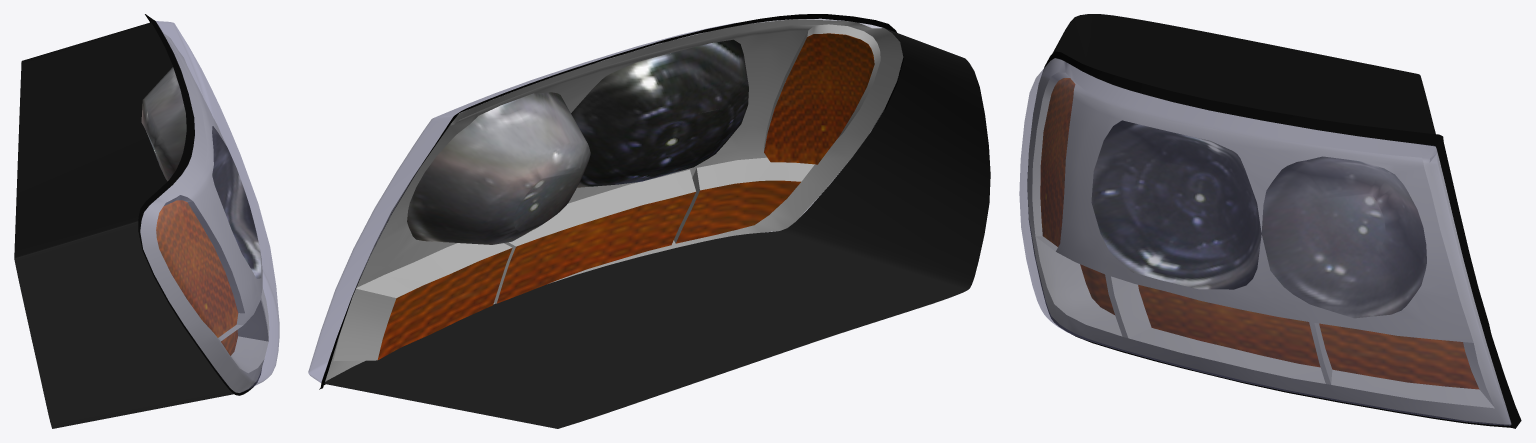
The picture shows the model from 3 angles, left to right: view 1: azimuth 30°, elevation 25°; view 2: azimuth 150°, elevation 25°; view 3: azimuth 270°, elevation 25°; orthographic projection. The views are drawn at different scales.
Parts seen in each view (by area): view 1: J731_061B_R_J731_061B_R_6_D, J731_061B_R_J731_061B_R_7_DTaSI, J731_061B_R_J731_061B_R_4_DaS, J731_061B_R_J731_061B_R_5_N, J731_061B_R_1_N_J731_061B_R, J731_061B_R_J731_061B_R_2_N, J731_061B_R_J731_061B_R_8_D; view 2: J731_061B_R_J731_061B_R_6_D, J731_061B_R_J731_061B_R_4_DaS, J731_061B_R_1_N_J731_061B_R, J731_061B_R_J731_061B_R_3_N, J731_061B_R_J731_061B_R_2_N, J731_061B_R_J731_061B_R_5_N, J731_061B_R_J731_061B_R_7_DTaSI, J731_061B_R_J731_061B_R_8_D; view 3: J731_061B_R_J731_061B_R_7_DTaSI, J731_061B_R_J731_061B_R_4_DaS, J731_061B_R_J731_061B_R_6_D, J731_061B_R_J731_061B_R_2_N, J731_061B_R_1_N_J731_061B_R, J731_061B_R_J731_061B_R_3_N, J731_061B_R_J731_061B_R_8_D, J731_061B_R_J731_061B_R_5_N.
Boxes of the visible parts, <box> form: J731_061B_R_J731_061B_R_6_D: <box>14,22,245,428</box>; J731_061B_R_J731_061B_R_7_DTaSI: <box>140,21,279,392</box>; J731_061B_R_J731_061B_R_4_DaS: <box>140,27,269,392</box>; J731_061B_R_J731_061B_R_5_N: <box>156,200,238,337</box>; J731_061B_R_1_N_J731_061B_R: <box>141,67,186,181</box>; J731_061B_R_J731_061B_R_2_N: <box>212,126,261,278</box>; J731_061B_R_J731_061B_R_8_D: <box>138,14,261,395</box>; J731_061B_R_J731_061B_R_6_D: <box>324,28,990,428</box>; J731_061B_R_J731_061B_R_4_DaS: <box>325,19,903,381</box>; J731_061B_R_1_N_J731_061B_R: <box>407,92,590,244</box>; J731_061B_R_J731_061B_R_3_N: <box>377,180,800,359</box>; J731_061B_R_J731_061B_R_2_N: <box>571,39,748,187</box>; J731_061B_R_J731_061B_R_5_N: <box>764,33,874,164</box>; J731_061B_R_J731_061B_R_7_DTaSI: <box>308,19,881,382</box>; J731_061B_R_J731_061B_R_8_D: <box>319,14,903,389</box>; J731_061B_R_J731_061B_R_7_DTaSI: <box>1019,58,1511,425</box>; J731_061B_R_J731_061B_R_4_DaS: <box>1027,58,1510,424</box>; J731_061B_R_J731_061B_R_6_D: <box>1027,14,1510,424</box>; J731_061B_R_J731_061B_R_2_N: <box>1091,120,1261,289</box>; J731_061B_R_1_N_J731_061B_R: <box>1261,156,1426,318</box>; J731_061B_R_J731_061B_R_3_N: <box>1080,264,1478,389</box>; J731_061B_R_J731_061B_R_8_D: <box>1029,51,1521,428</box>; J731_061B_R_J731_061B_R_5_N: <box>1040,78,1075,246</box>.
Size of the model in its own units: 44.49 by 26.96 by 49.2.
